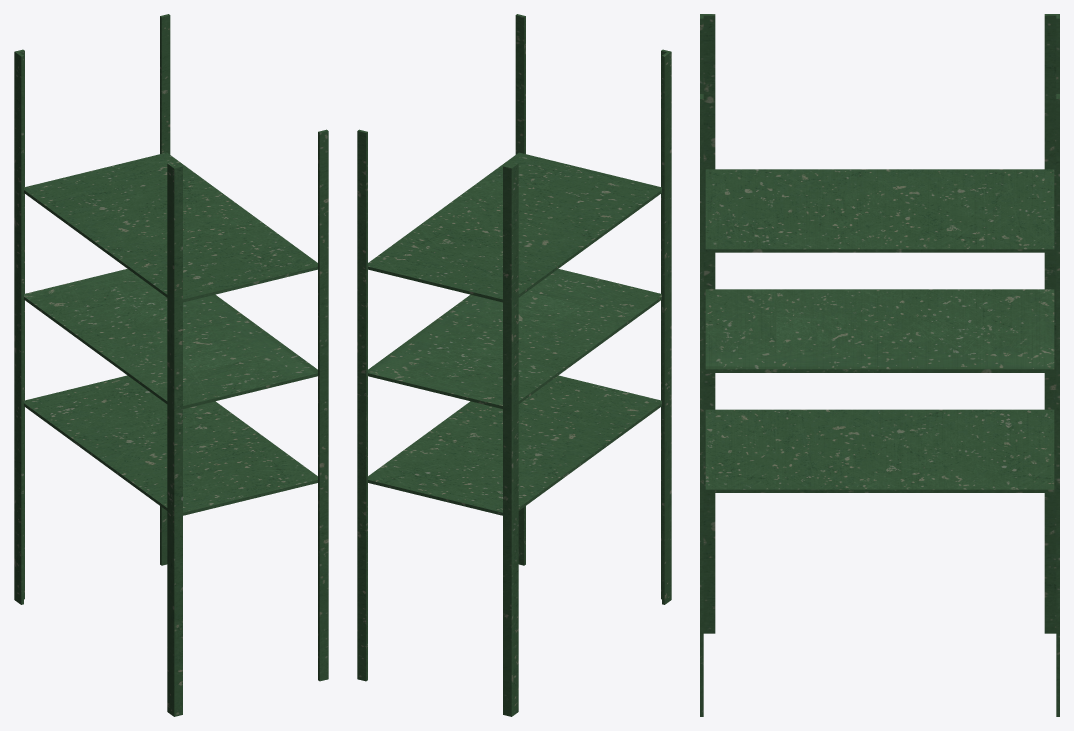
The model's file is metallitaso.fbx.
The picture shows the model from 3 angles, left to right: view 1: azimuth 30°, elevation 25°; view 2: azimuth 150°, elevation 25°; view 3: azimuth 270°, elevation 25°; orthographic projection. The views are drawn at different scales.
Parts seen in each view (by area): view 1: Cube_8, Cube_6, Cube_7, Cube_4, Cube, Cube_2, Cube_1, Cube_3, Cube_5; view 2: Cube_8, Cube_6, Cube_7, Cube_5, Cube_3, Cube_1, Cube_2, Cube, Cube_4; view 3: Cube_8, Cube_7, Cube_6, Cube_2, Cube_1, Cube_5, Cube_4.
Boxes of the visible parts, left/top/right/bottom form: Cube_8: left=24, top=152, right=317, bottom=302; Cube_6: left=24, top=375, right=317, bottom=515; Cube_7: left=24, top=269, right=317, bottom=408; Cube_4: left=318, top=129, right=328, bottom=681; Cube: left=172, top=165, right=182, bottom=716; Cube_2: left=16, top=52, right=23, bottom=604; Cube_1: left=167, top=163, right=174, bottom=715; Cube_3: left=14, top=49, right=24, bottom=600; Cube_5: left=160, top=14, right=170, bottom=565; Cube_8: left=368, top=152, right=661, bottom=302; Cube_6: left=368, top=375, right=661, bottom=515; Cube_7: left=368, top=269, right=661, bottom=408; Cube_5: left=357, top=129, right=367, bottom=681; Cube_3: left=503, top=165, right=513, bottom=716; Cube_1: left=662, top=52, right=669, bottom=604; Cube_2: left=511, top=163, right=518, bottom=715; Cube: left=661, top=49, right=671, bottom=600; Cube_4: left=515, top=14, right=525, bottom=565; Cube_8: left=705, top=169, right=1054, bottom=252; Cube_7: left=705, top=289, right=1054, bottom=372; Cube_6: left=705, top=409, right=1054, bottom=492; Cube_2: left=1044, top=14, right=1056, bottom=633; Cube_1: left=703, top=14, right=715, bottom=633; Cube_5: left=1056, top=94, right=1059, bottom=716; Cube_4: left=700, top=94, right=703, bottom=716.
Size of the model in its own units: 53 by 180 by 95.
1 material, 1 textured.
